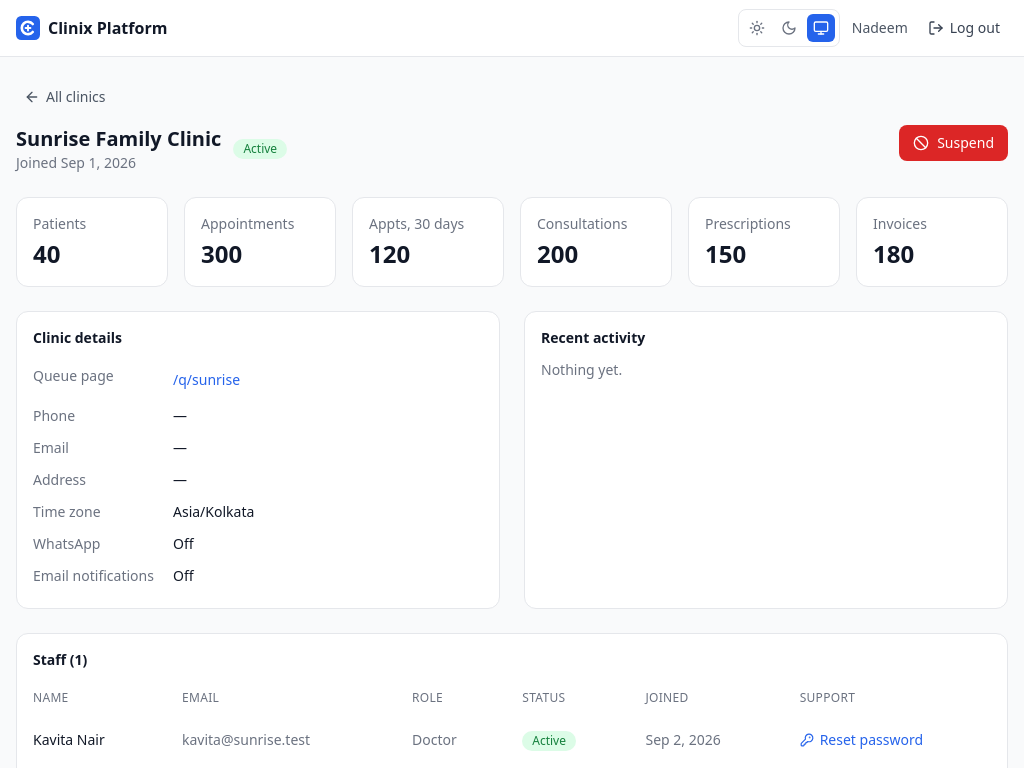
Scenario: platform panel › resets a staff password and shows the temporary one once
The image size is (1024, 768).
What coordinates should you click on to do the following:
click the button with aria-label "Reset password for Kavita Nair"
I would click on:
 (861, 740)
Its box is [800,724,923,756].
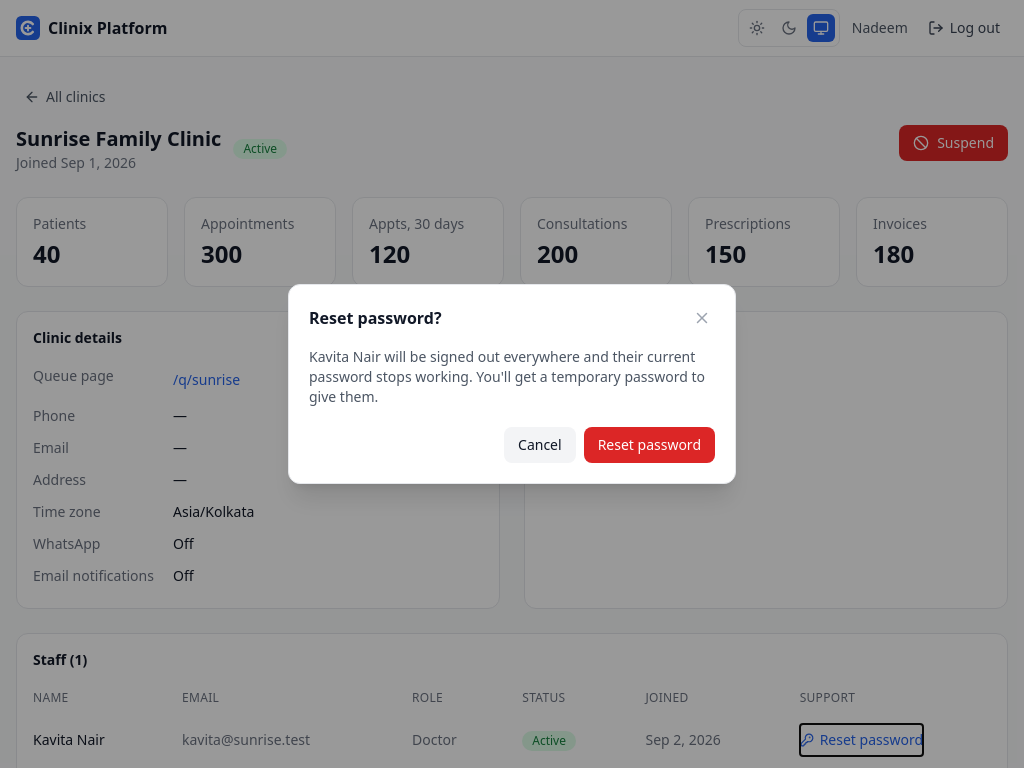
What coordinates should you click on to do the following:
click the button "Reset password"
I would click on:
 (649, 445)
Its box is [584,427,715,463].
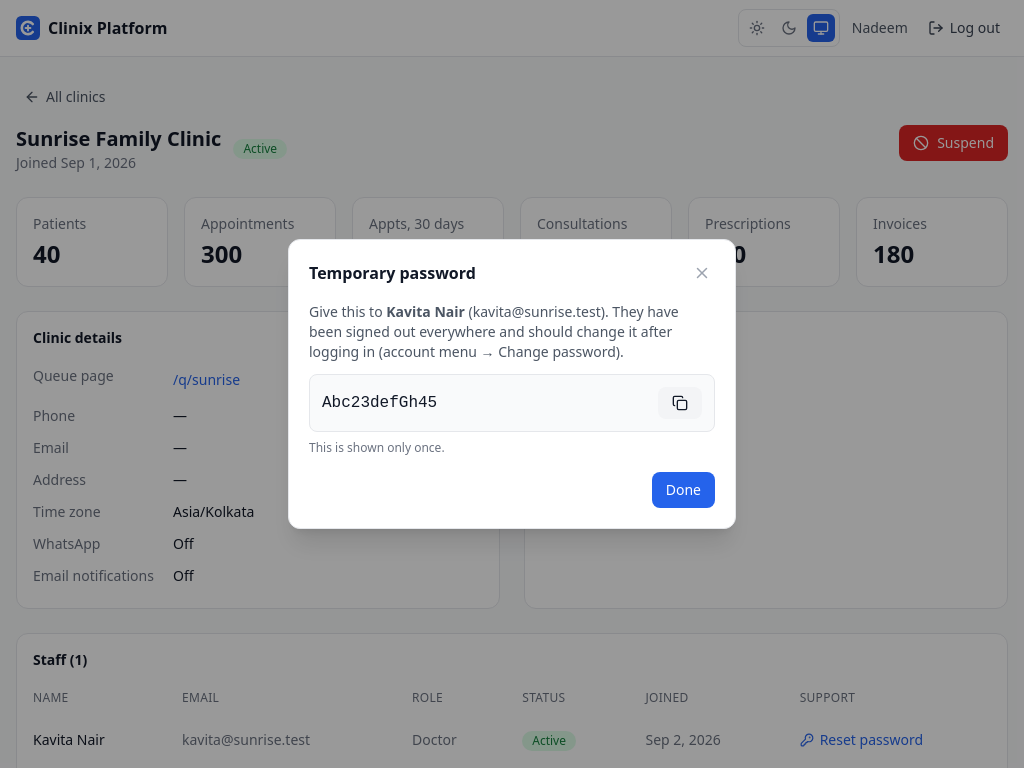
Check: the text "Abc23defGh45" is shown, box [322,394,437,412]
Check: the text "This is shown only once." is shown, box [309,439,445,456]
What coordinates should you click on to do the following:
click the button "Done"
I would click on:
 (683, 490)
Its box is [652,472,715,508].
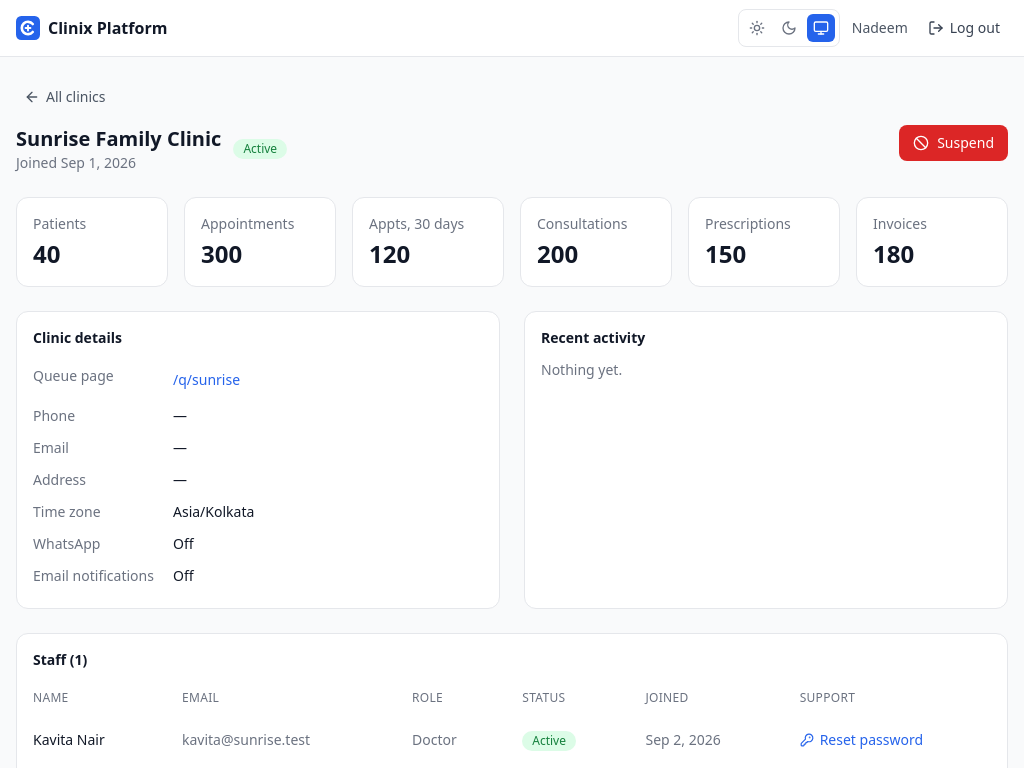
Check: the text "Abc23defGh45" is gone
